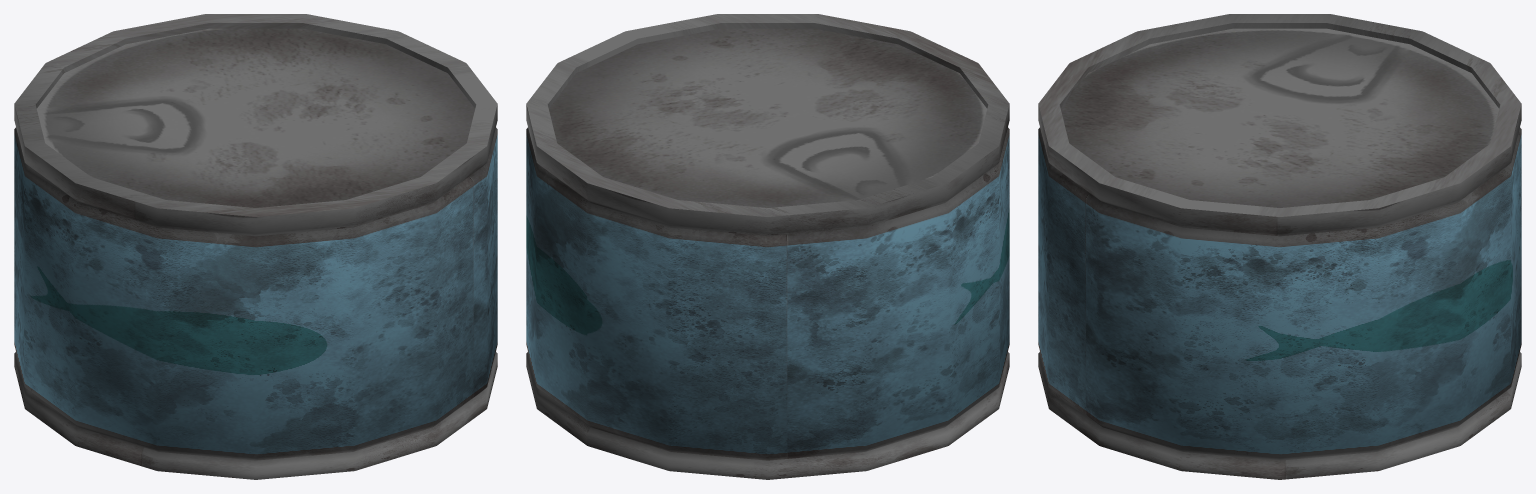
The model's file is can_XS.fbx.
The picture shows the model from 3 angles, left to right: view 1: azimuth 30°, elevation 25°; view 2: azimuth 150°, elevation 25°; view 3: azimuth 270°, elevation 25°; orthographic projection.
Visible parts, largest first — view 1: Cylinder004; view 2: Cylinder004; view 3: Cylinder004.
Boxes of the visible parts, left/top/right/bottom form: Cylinder004: left=14, top=14, right=497, bottom=479; Cylinder004: left=526, top=14, right=1009, bottom=479; Cylinder004: left=1038, top=14, right=1521, bottom=479.
Size of the model in its own units: 5.24 by 3.16 by 5.27.
